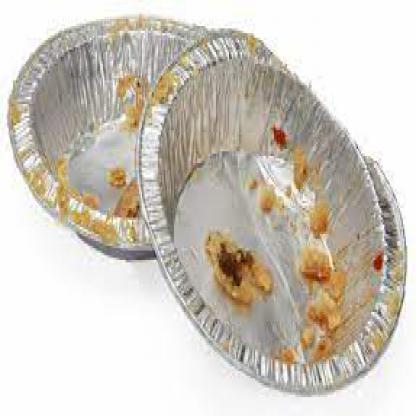BIODEGRADABLE: (204, 225, 271, 300), (281, 288, 336, 360), (302, 248, 339, 300), (288, 149, 308, 191), (117, 180, 138, 220), (309, 198, 326, 236), (254, 184, 274, 210), (107, 168, 123, 189)
METAL: (135, 28, 406, 390), (6, 12, 223, 258)
